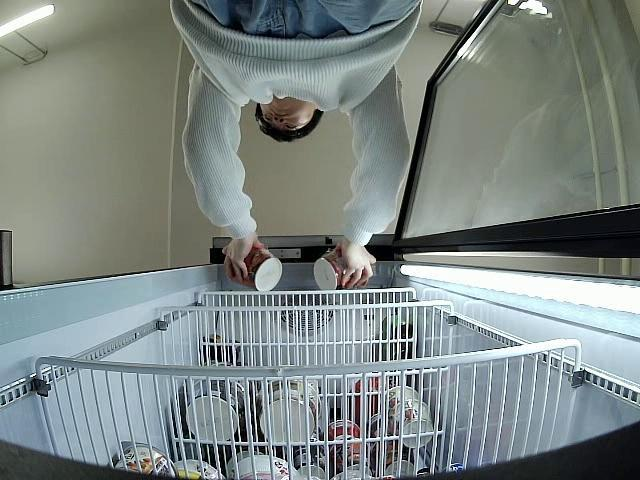01_ShinRamen_L: (230, 243, 283, 292), (315, 248, 368, 294)
